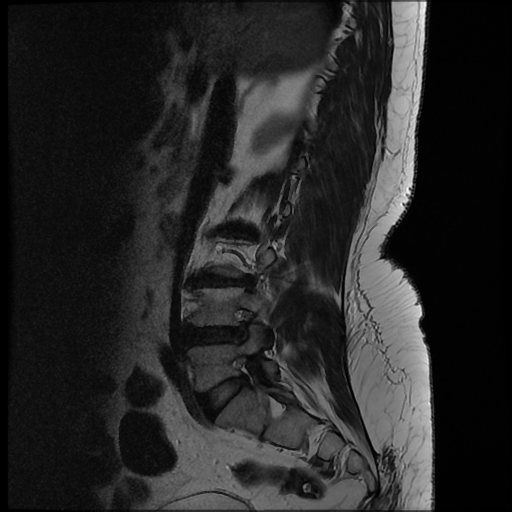RFS2: (220, 350, 269, 394)
RFS3: (220, 300, 267, 345)
